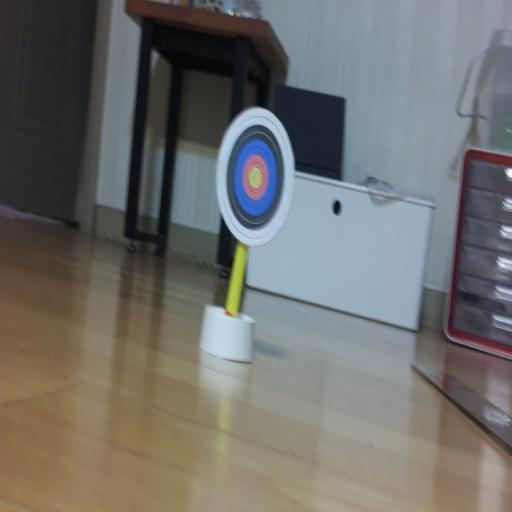target: (217, 109, 294, 245)
